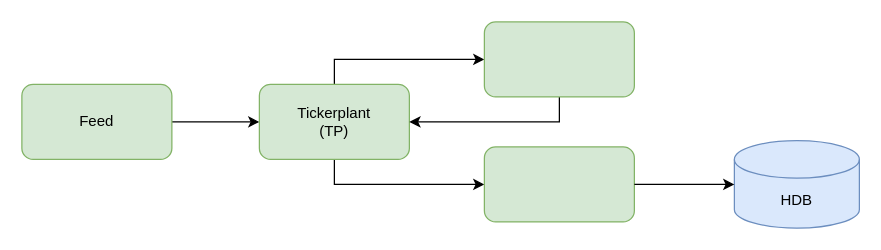
Image size: 881x250. Some labels were removed from this diagram. The shapes that lost their labels are listed below. From the top down, each one's centre as x and y in pixels, then its label:
(x=558, y=59): Real-Time Engine (RTE)
(x=558, y=184): RDB
